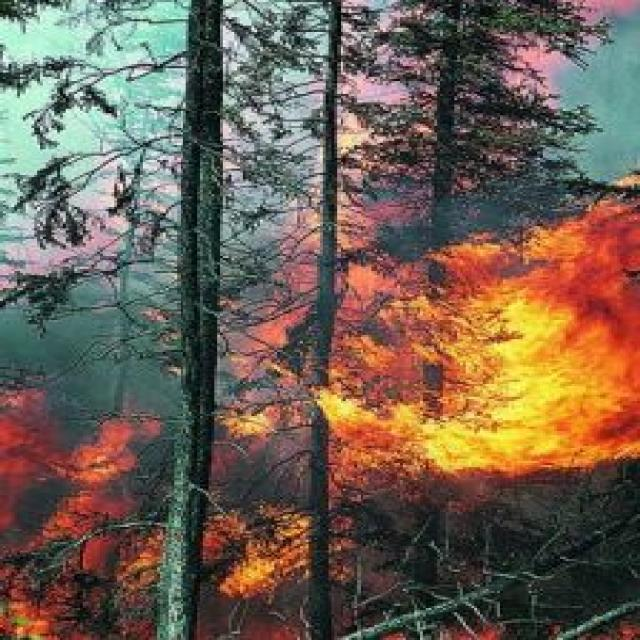Fire: (0, 195, 640, 640)
